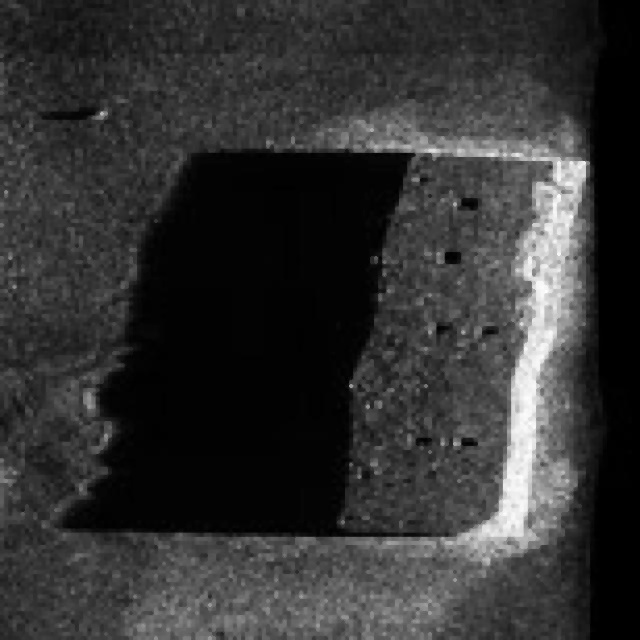Ship: (331, 118, 640, 559)
